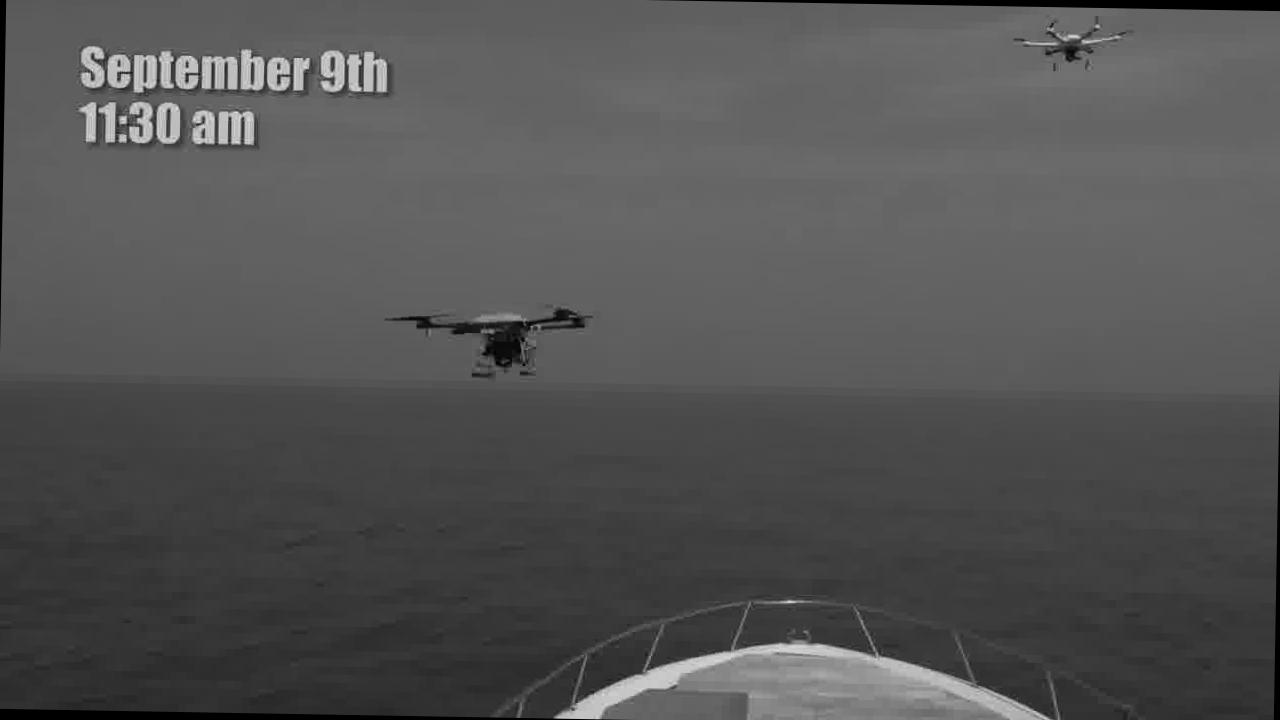drone: (397, 298, 593, 379), (1012, 11, 1125, 70)
